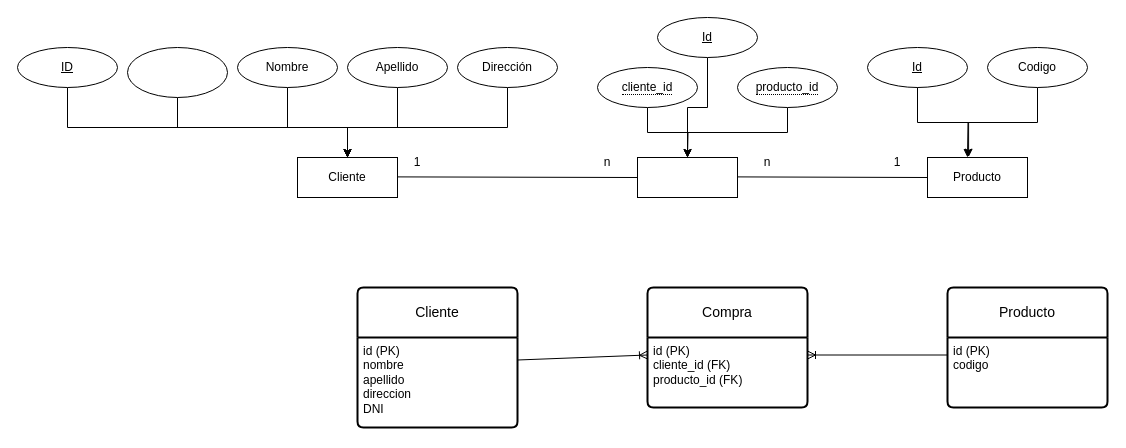
This 1126x448 diagram has some shape labels left out. The centre of each missing label's shape, as x and y in pixels:
"cliente_producto Compra" belongs at [687,177].
"DNI" belongs at [177,72].
